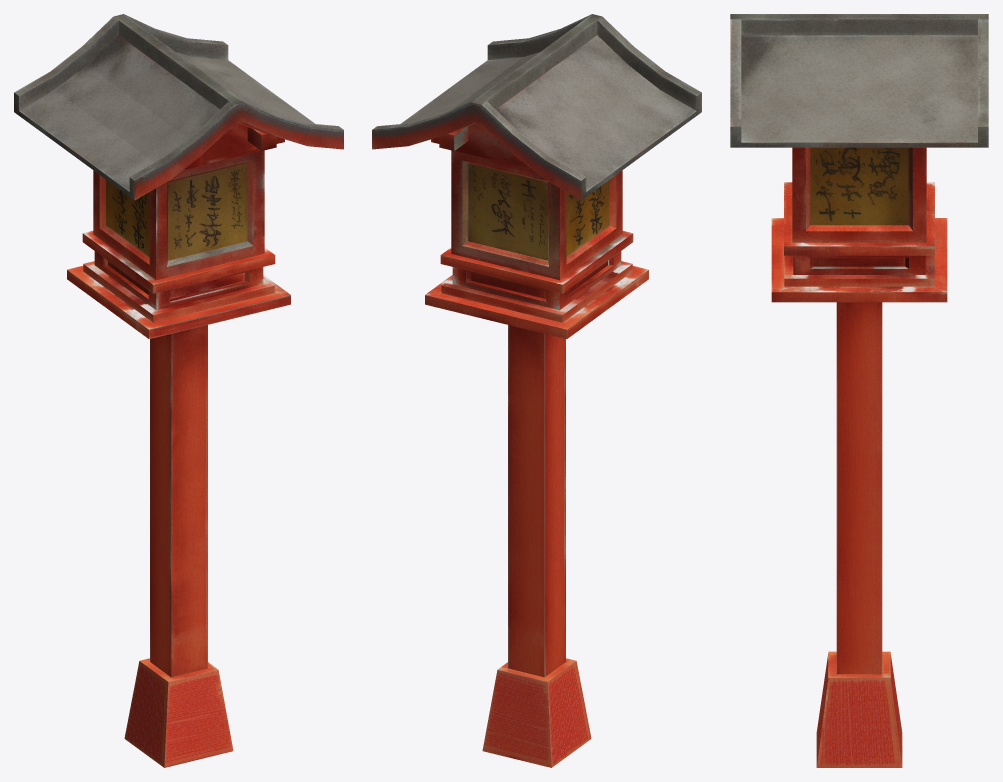
3 renders of one model, left to right at view 1: azimuth 30°, elevation 25°; view 2: azimuth 150°, elevation 25°; view 3: azimuth 270°, elevation 25°, orthographic. The views are drawn at different scales.
Visible parts, largest first — view 1: mesh.005; view 2: mesh.005; view 3: mesh.005.
Part boxes in pixels (left/top/right/bottom): mesh.005: left=14, top=14, right=343, bottom=767; mesh.005: left=372, top=14, right=701, bottom=767; mesh.005: left=730, top=14, right=988, bottom=767.
Size of the model in its own units: 0.2364 by 0.7406 by 0.2364.
1 material, 1 textured.
